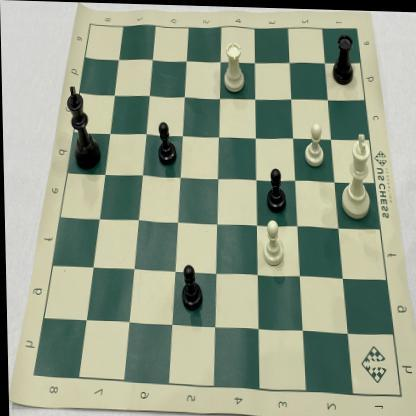black-king: (63, 81, 104, 175)
black-pawn: (175, 258, 208, 317), (151, 113, 182, 171), (262, 160, 290, 216)
black-rook: (328, 27, 359, 90)
white-king: (333, 125, 375, 223)
white-pawn: (257, 215, 288, 271), (300, 117, 328, 168)
white-rook: (218, 37, 250, 101)
